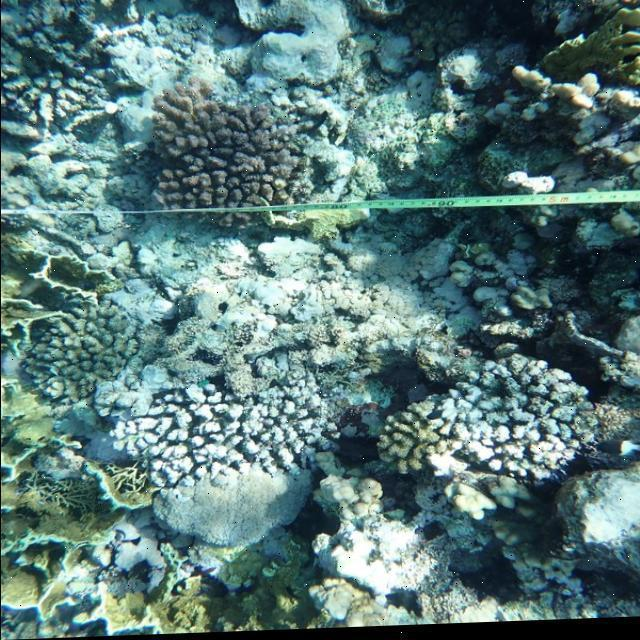Bleached Coral: (110, 370, 330, 500), (419, 351, 593, 504)
